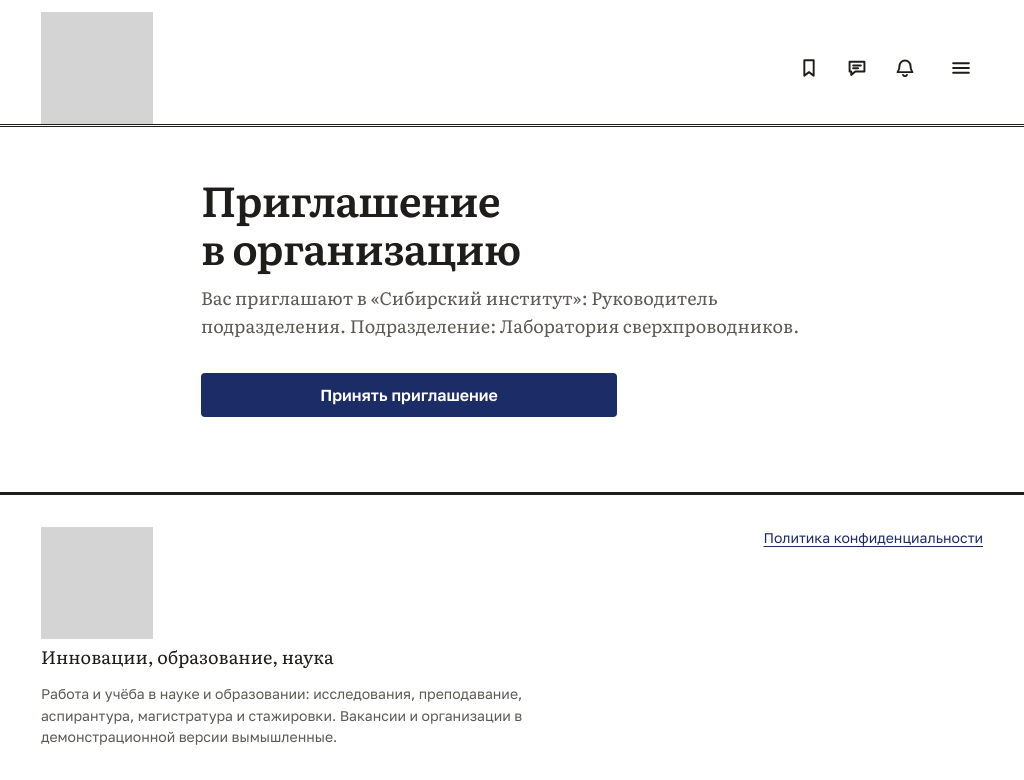
Test: invitation page › says so when the person already works there
Click the button "Принять приглашение" at (409, 395), box x1=201 y1=373 x2=617 y2=417
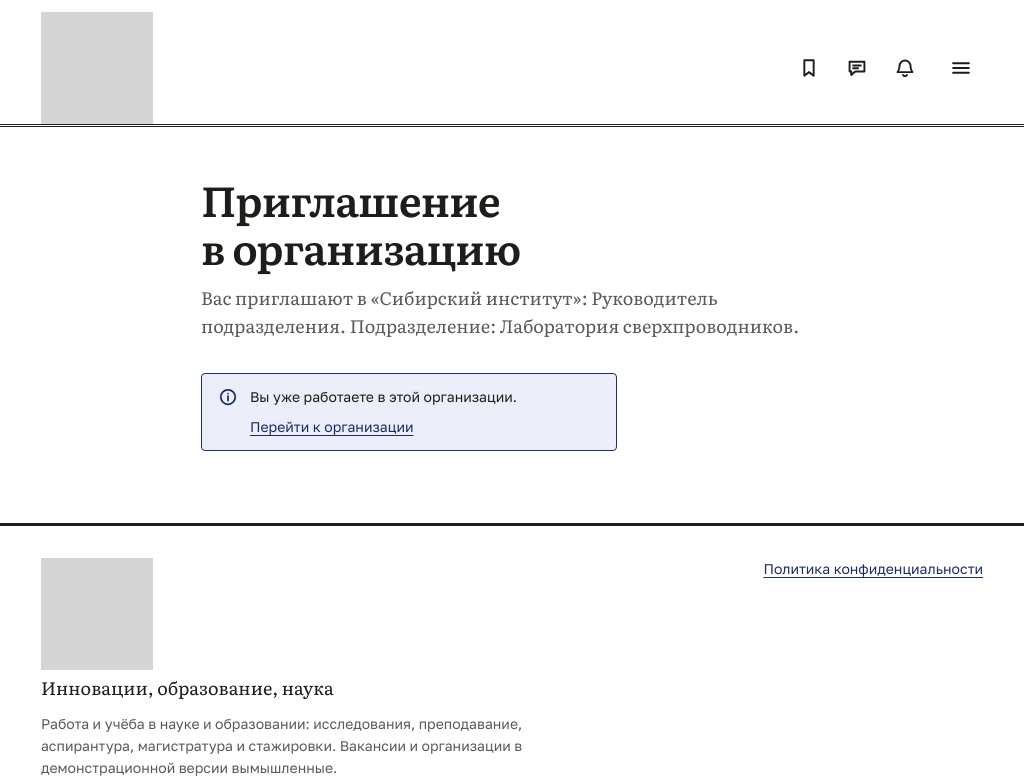
Now the text "Вы уже работаете в этой организации." is shown, box x1=250 y1=388 x2=517 y2=405
Now the button "Принять приглашение" is gone
